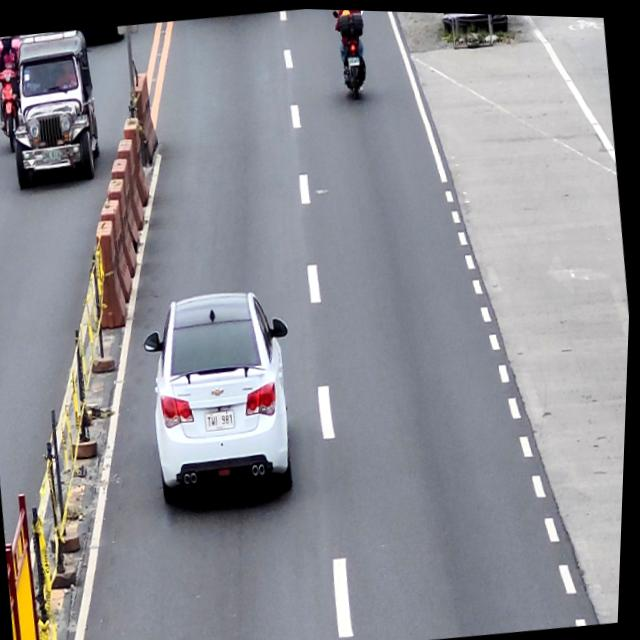Car: (135, 281, 312, 515)
License-Plate: (205, 406, 239, 431), (347, 52, 362, 65)
Motorcycle: (327, 8, 375, 97)
